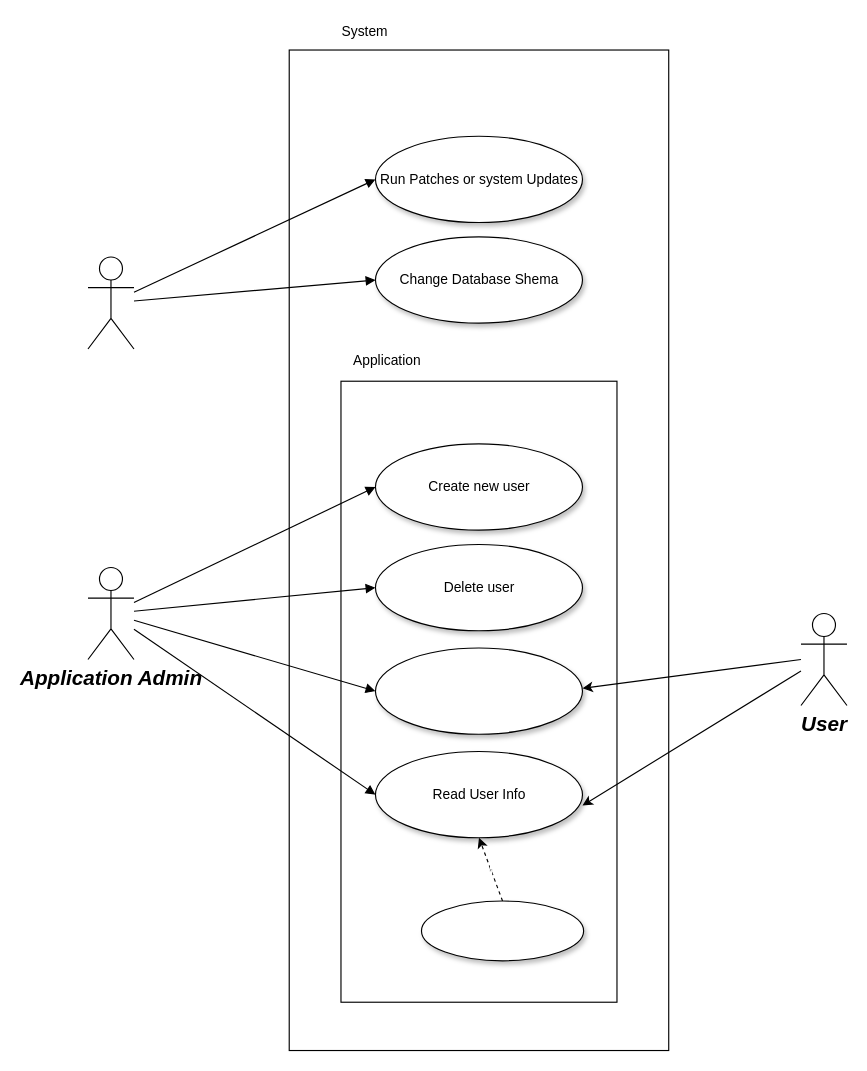
Some shapes in this 867 by 1071 pixel diagram are drawn without their labels. The shapes that lost their labels are listed below. From the top down, each one's centre as x and y in pixels, then its label:
At point (110, 302): "System Admin".
At point (479, 692): "Update user info".
At point (503, 932): "Print Office hour card".
